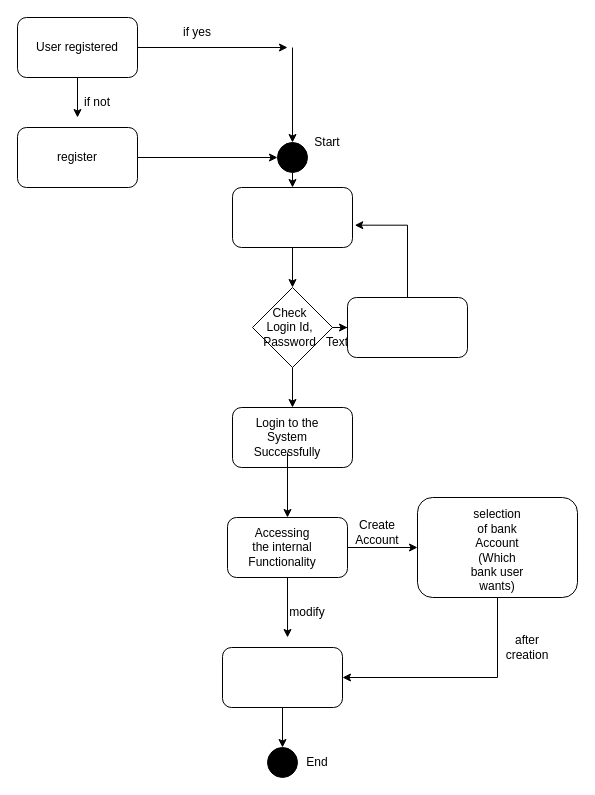
This 595x795 diagram has some shape labels left out. Here are the shapes that lost their labels. From the top down, the centre of each, then its label:
At (292,217): "Customer Login ID and Password".
At (407,327): "Invalid LoginId/Password".
At (282,677): "modifications if any".
